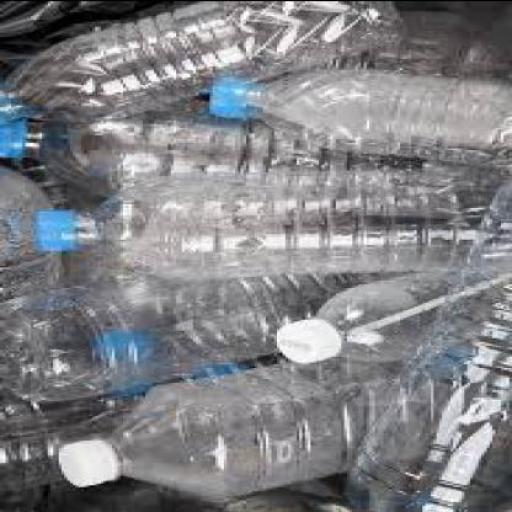plastic: (0, 1, 511, 511), (336, 176, 510, 510), (50, 352, 431, 497), (0, 271, 393, 401), (31, 168, 509, 268), (0, 355, 294, 510), (0, 1, 395, 116), (0, 91, 423, 195), (204, 62, 510, 164), (272, 266, 454, 359), (268, 4, 510, 72), (420, 2, 510, 168), (0, 1, 156, 56), (67, 482, 350, 510), (56, 434, 120, 484), (274, 312, 338, 362), (92, 328, 156, 366), (210, 68, 249, 118), (0, 115, 26, 155), (0, 93, 22, 117)
